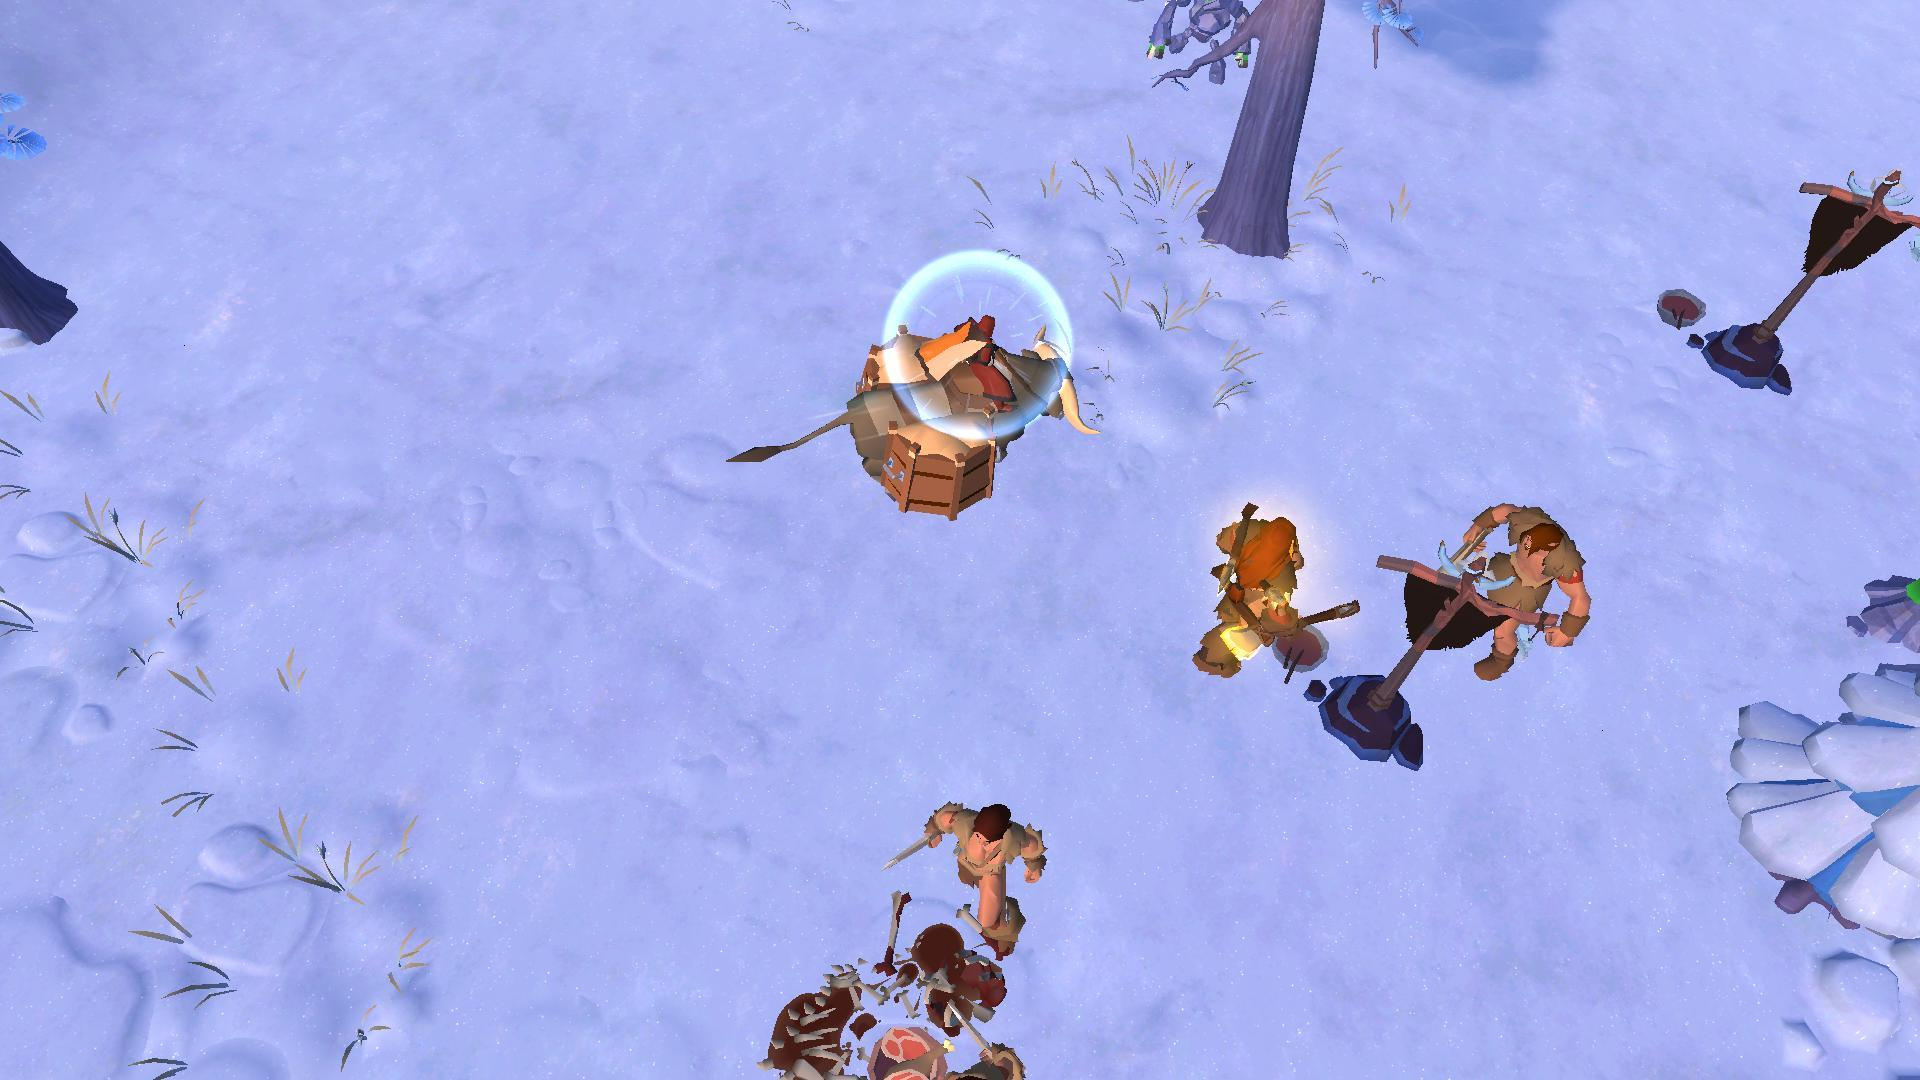enemy_factionKeeper: (1427, 498, 1600, 691), (1178, 508, 1353, 679), (906, 793, 1054, 969)
